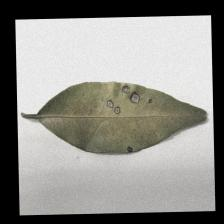canker: (100, 77, 158, 129)
